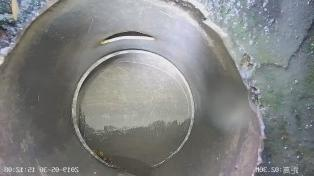CKTJ: (69, 47, 198, 170)
PL: (97, 29, 159, 47)
